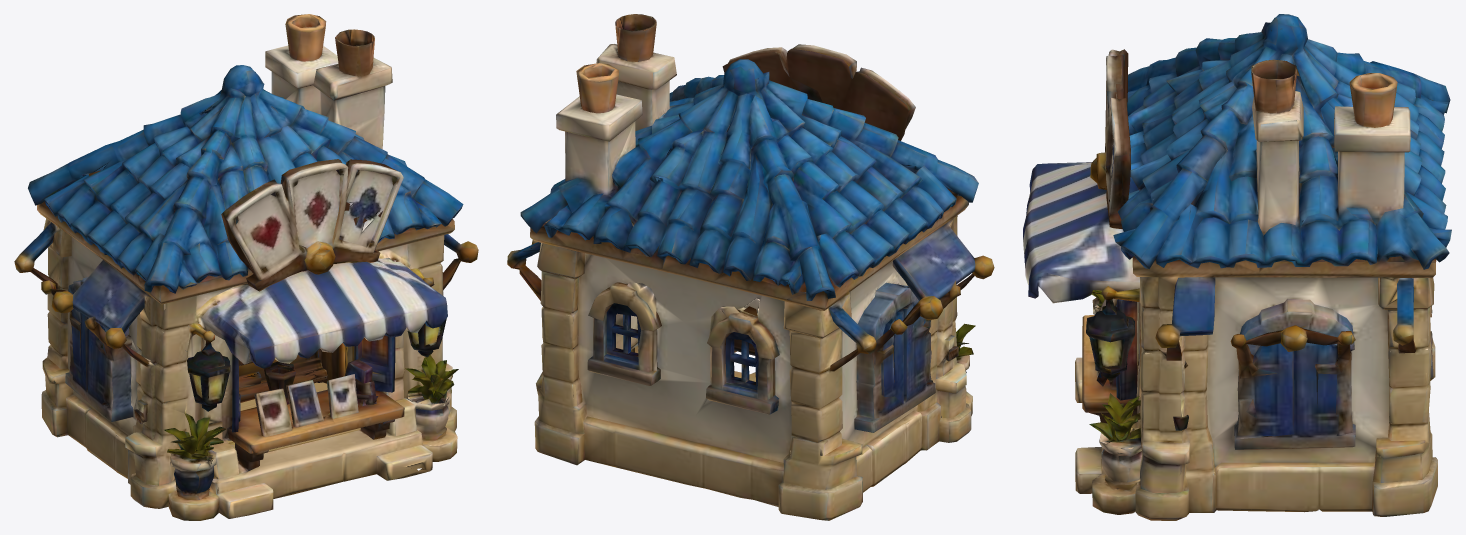
File: candidate.glb
3 renders of one model, left to right at view 1: azimuth 30°, elevation 25°; view 2: azimuth 150°, elevation 25°; view 3: azimuth 270°, elevation 25°, orthographic. The views are drawn at different scales.
Visible parts, largest first — view 1: harbor__card_pavilion__native_mobile; view 2: harbor__card_pavilion__native_mobile; view 3: harbor__card_pavilion__native_mobile.
Boxes of the visible parts, x1,y1,x2,y2 form: harbor__card_pavilion__native_mobile: (14, 14, 478, 520); harbor__card_pavilion__native_mobile: (507, 14, 994, 520); harbor__card_pavilion__native_mobile: (1023, 14, 1451, 520).
Bounding box in the file's own units: 1 × 0.9484 × 0.8556.
Materials: 1 (1 with a texture image).
